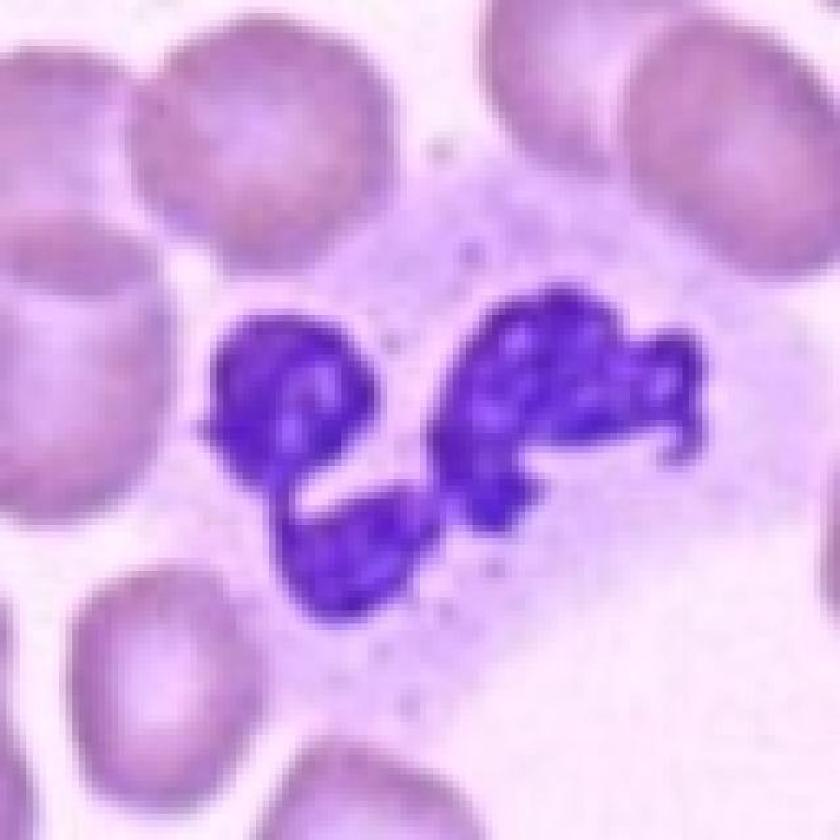neutrophil: (155, 161, 755, 728)
